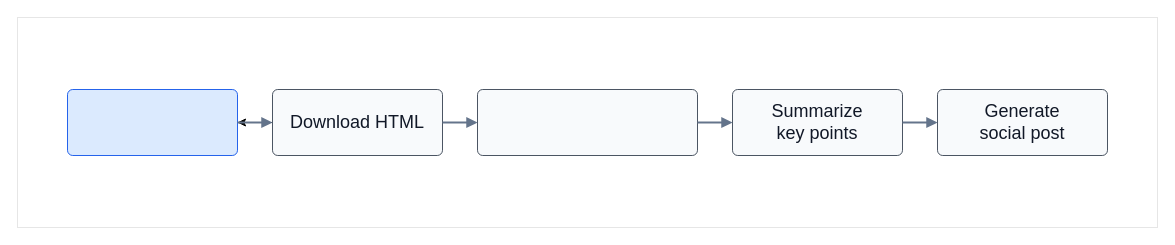
This 1175x245 diagram has some shape labels left out. Each missing label, with the box of its shape:
Extract core content with LLM: (476, 88, 698, 156)
Website URL: (66, 88, 238, 156)
